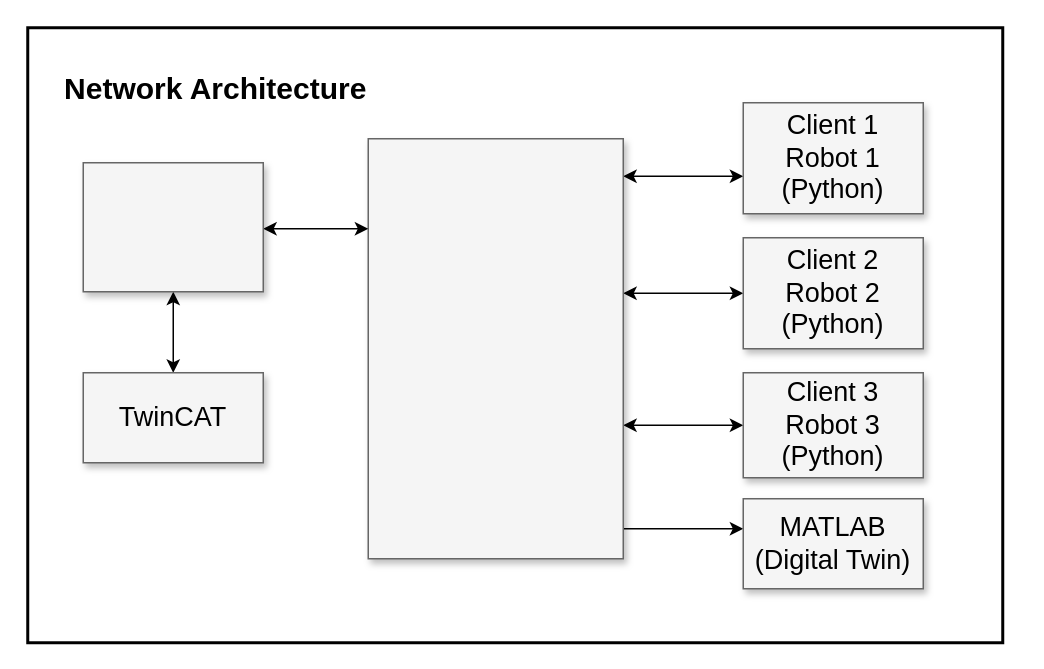
The diagram is 1044 pixels wide and 669 high, and some of its shapes have lost their labels. The shapes that lost their labels are listed below. From the top down, each one's centre as x and y in pixels, then its label:
At [174,228]: "Client 4 GUI Control (C#)".
At [496,350]: "OPC UA Server (Python)".
